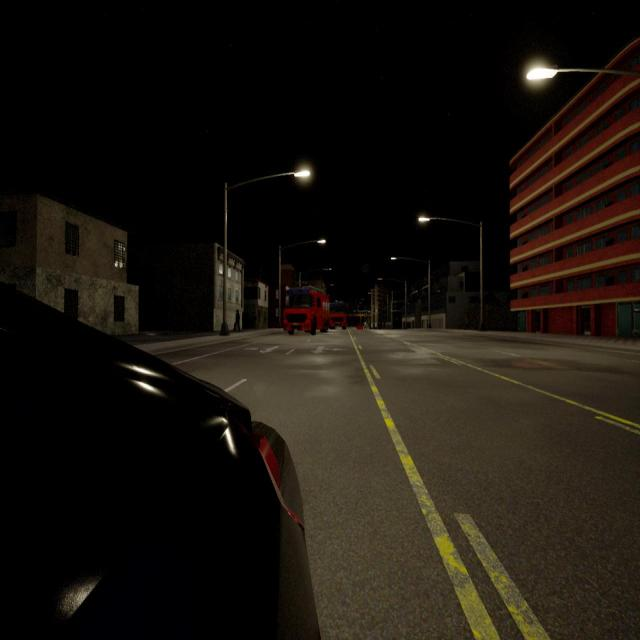Pedestrian: (234, 310, 240, 332)
Vehicle: (0, 283, 315, 638), (284, 288, 329, 333), (329, 302, 346, 330), (357, 324, 363, 330)
